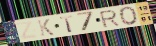7: (76, 10, 96, 33)
K: (36, 18, 56, 37)
O: (118, 6, 140, 27)
R: (98, 9, 121, 29)
T: (59, 15, 75, 34)
Z: (15, 20, 39, 41)
